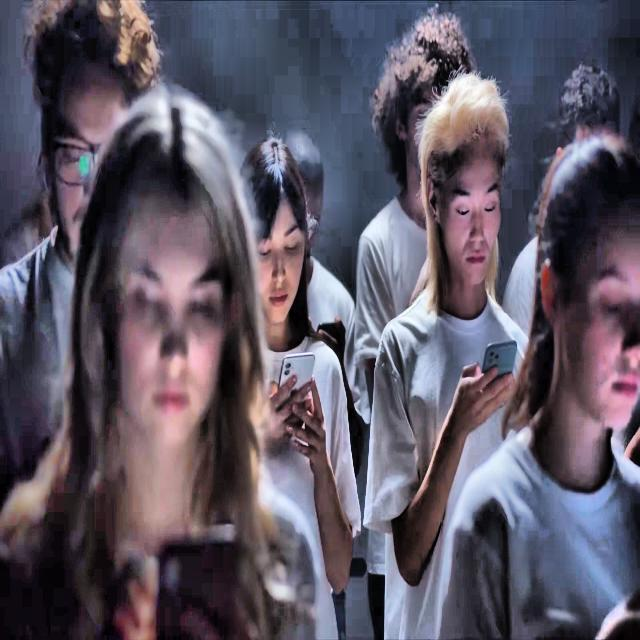Phone: (152, 516, 242, 640), (276, 348, 318, 426), (479, 331, 518, 394)
